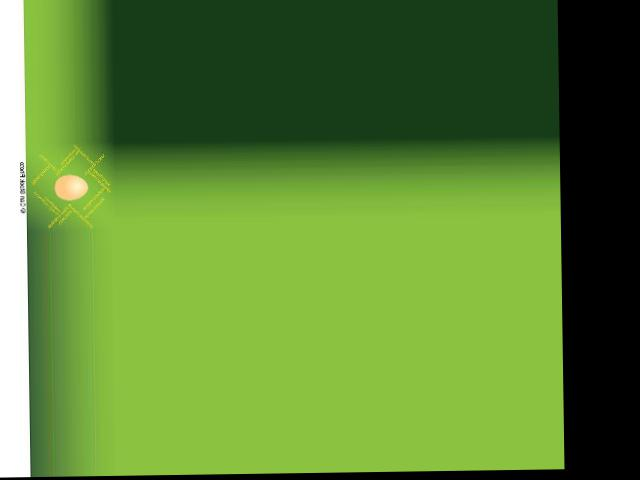egg: (54, 174, 88, 200)
